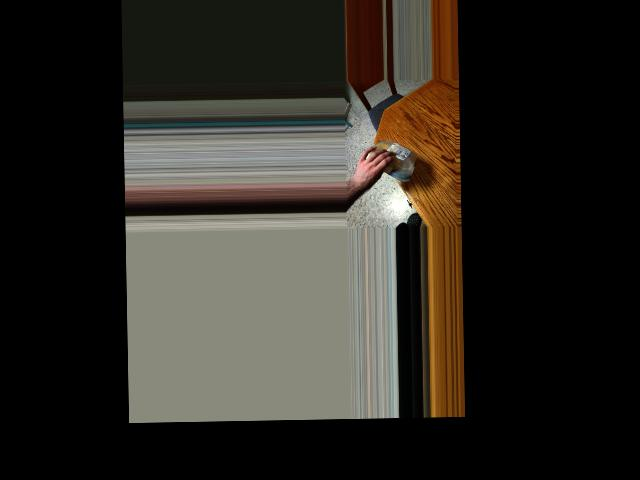cheese: (372, 141, 413, 170)
